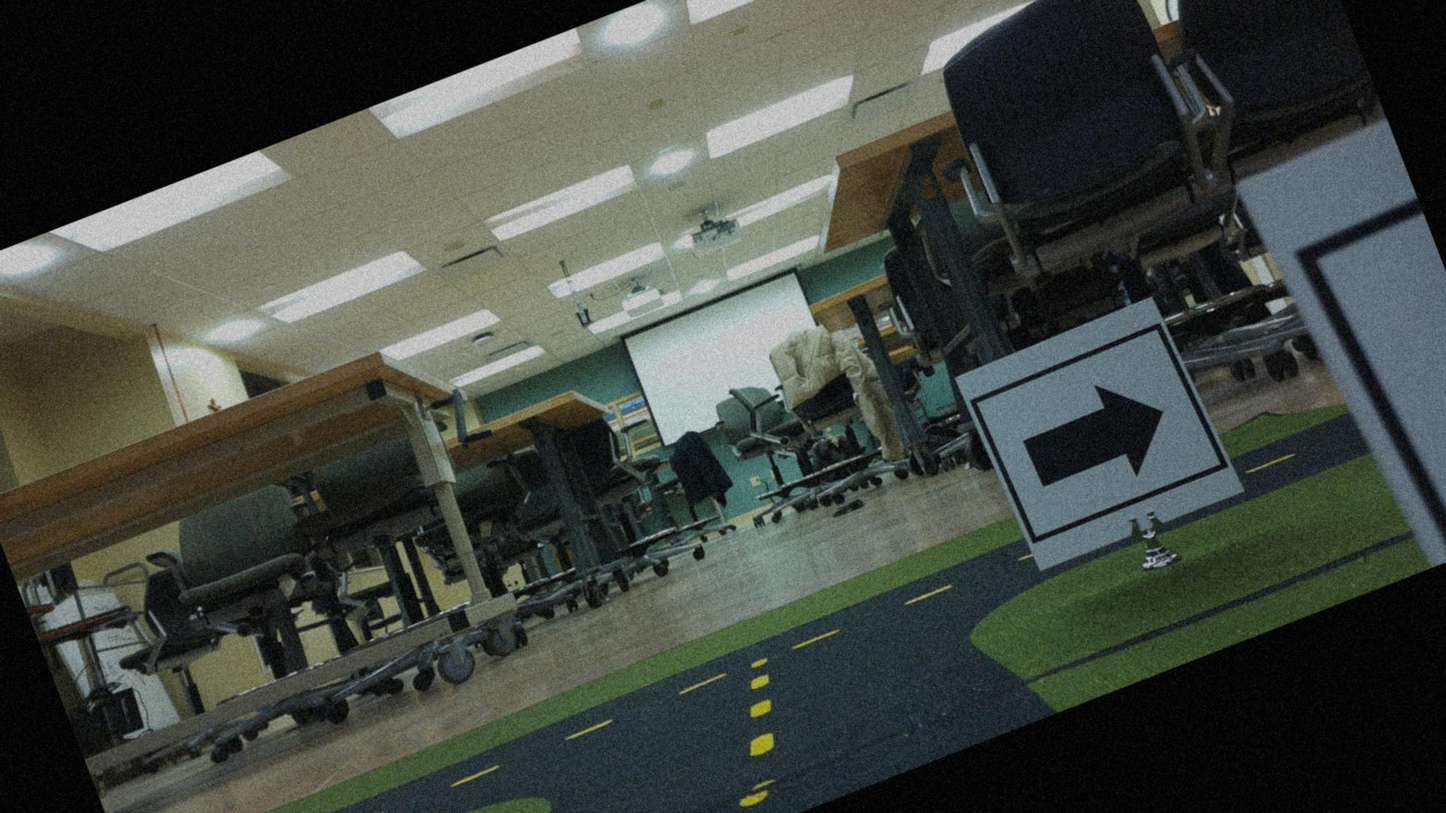turnleft: (966, 303, 1234, 568)
yellowline: (211, 582, 953, 812), (716, 647, 801, 760)
